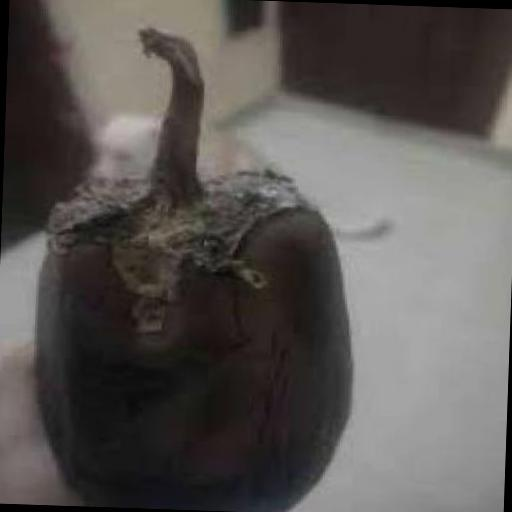biodegradable: (28, 20, 365, 512)
